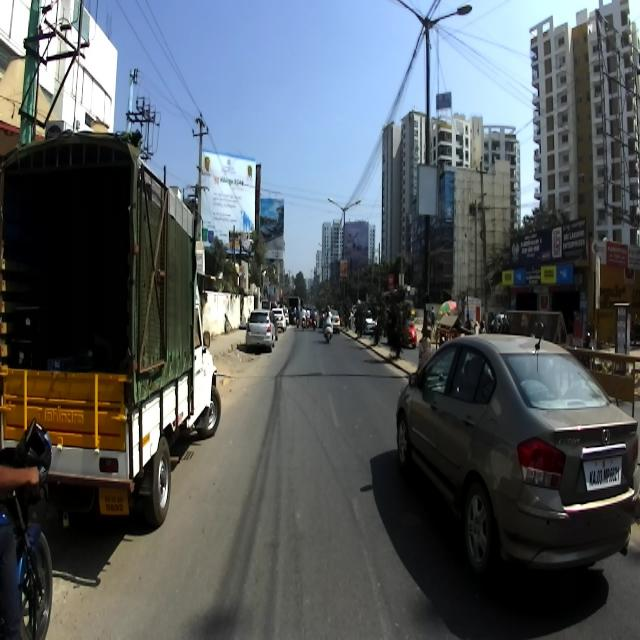Car_Honda: (395, 319, 639, 587)
motorcycle: (0, 418, 54, 639)
scooter: (245, 306, 276, 352)
truck: (1, 125, 224, 544)
